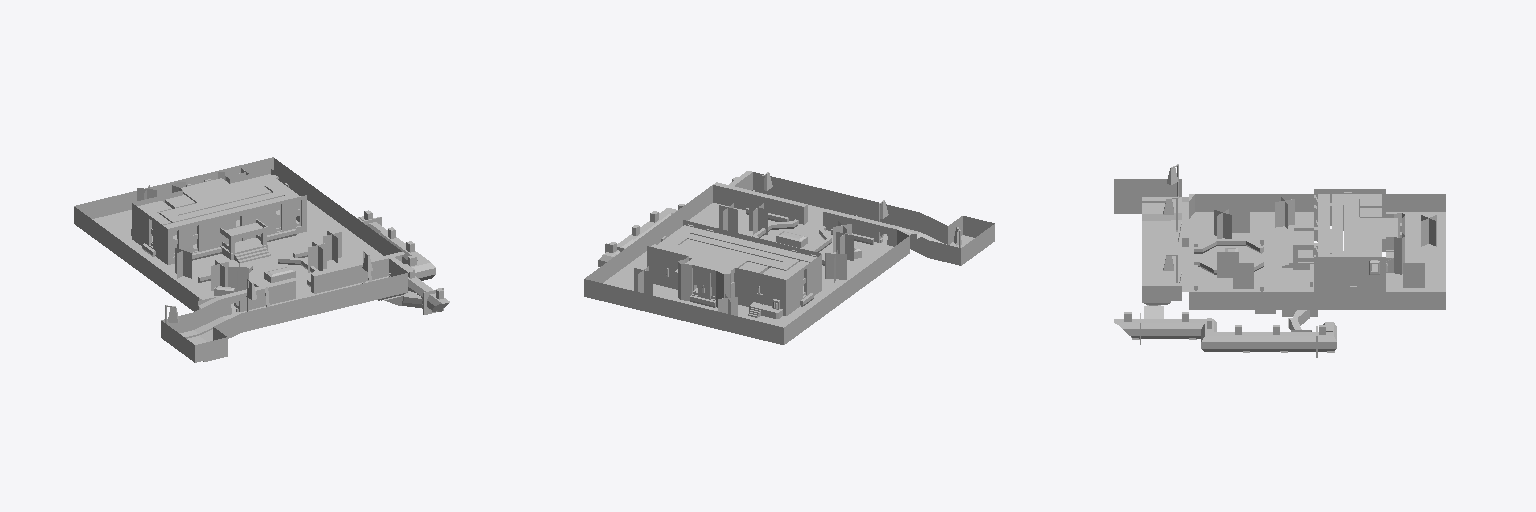
Rendered from cs_estate.obj.
3 renders of one model, left to right at view 1: azimuth 30°, elevation 25°; view 2: azimuth 150°, elevation 25°; view 3: azimuth 270°, elevation 25°, orthographic.
Parts seen in each view (by area): view 1: BSP_Object_model_0; view 2: BSP_Object_model_0; view 3: BSP_Object_model_0, BSP_Object_model_64, BSP_Object_model_62.
Boxes of the visible parts, box(x1,y1,x2,y2) form: BSP_Object_model_0: box(74, 157, 449, 362); BSP_Object_model_0: box(584, 171, 994, 344); BSP_Object_model_0: box(1114, 164, 1445, 351); BSP_Object_model_64: box(1403, 263, 1424, 287); BSP_Object_model_62: box(1233, 263, 1253, 288).
Size of the model in its own units: 2976 by 632 by 2976.